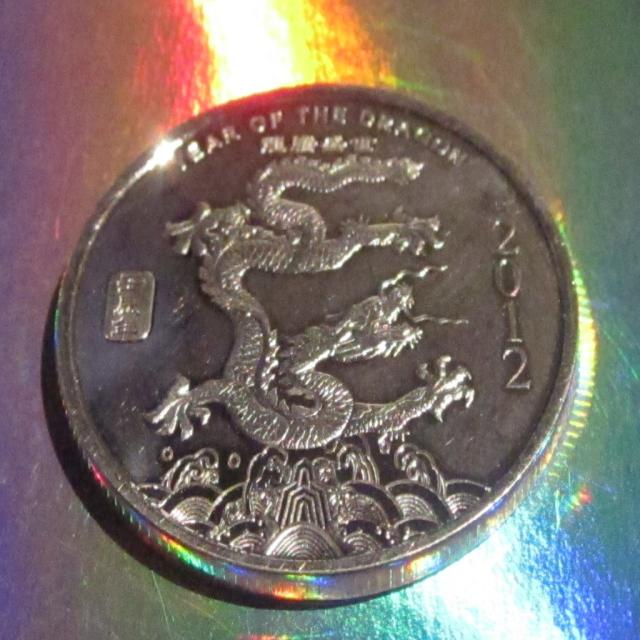Coin: (49, 81, 584, 606)
